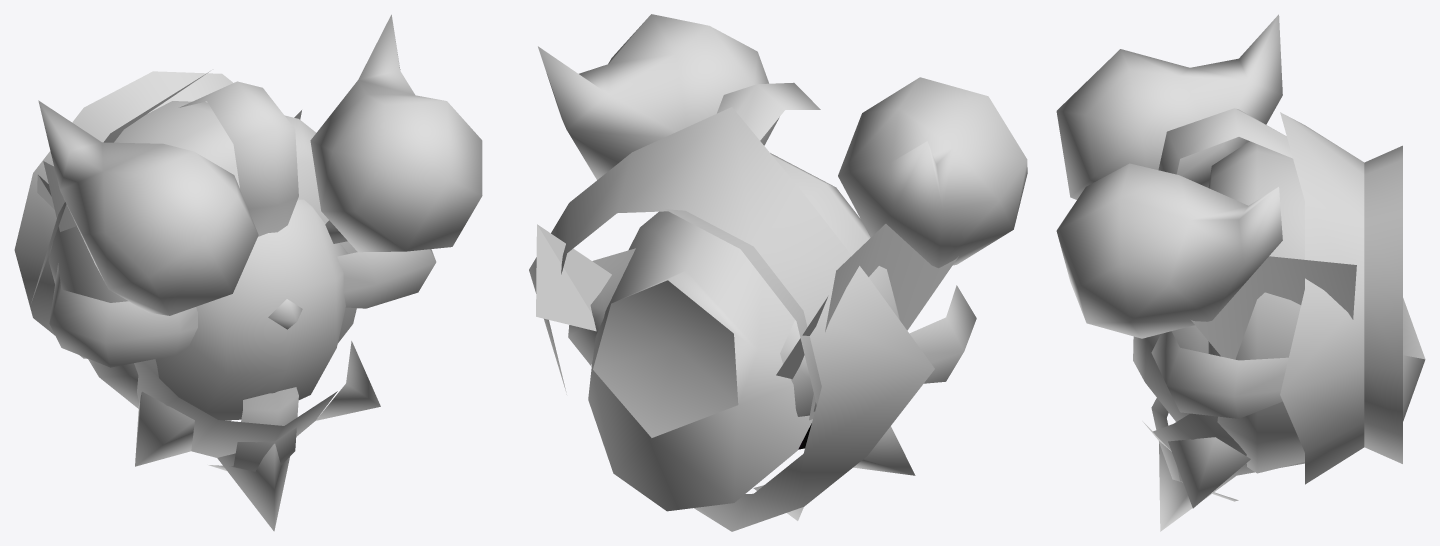
Rendered from model_crown.glb.
The picture shows the model from 3 angles, left to right: view 1: azimuth 30°, elevation 25°; view 2: azimuth 150°, elevation 25°; view 3: azimuth 270°, elevation 25°; orthographic projection. The views are drawn at different scales.
Parts seen in each view (by area): view 1: doubleploom.model_recolor-Mesh[0], parts.model_hat-Mesh[0]; view 2: doubleploom.model_recolor-Mesh[0], parts.model_hat-Mesh[0]; view 3: doubleploom.model_recolor-Mesh[0], parts.model_hat-Mesh[0].
Boxes of the visible parts, bbox=[...] form: doubleploom.model_recolor-Mesh[0]: bbox=[37, 14, 482, 531]; parts.model_hat-Mesh[0]: bbox=[14, 71, 436, 471]; doubleploom.model_recolor-Mesh[0]: bbox=[536, 14, 1027, 520]; parts.model_hat-Mesh[0]: bbox=[529, 82, 976, 531]; doubleploom.model_recolor-Mesh[0]: bbox=[1056, 14, 1425, 531]; parts.model_hat-Mesh[0]: bbox=[1151, 108, 1402, 501].
Bounding box in the file's own units: 0.7631 × 0.8344 × 0.6464.
Materials: 2 (1 with a texture image).
